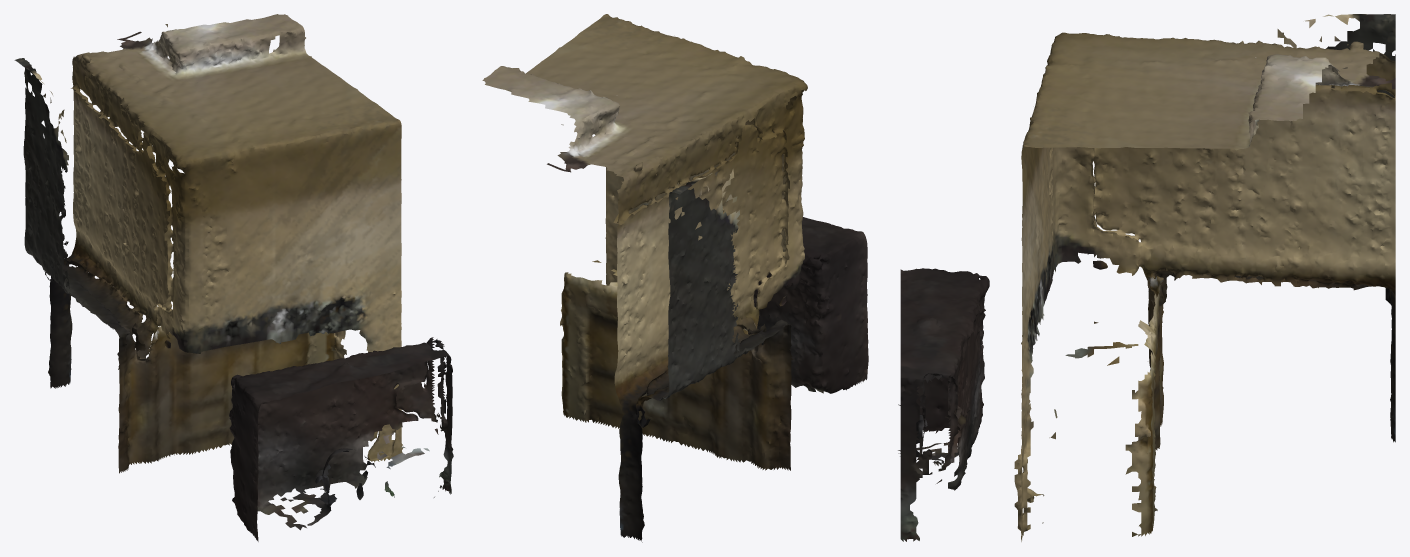
Rendered from fine.glb.
3 renders of one model, left to right at view 1: azimuth 30°, elevation 25°; view 2: azimuth 150°, elevation 25°; view 3: azimuth 270°, elevation 25°, orthographic. The views are drawn at different scales.
Size of the model in its own units: 0.8855 by 1.31 by 1.39.
